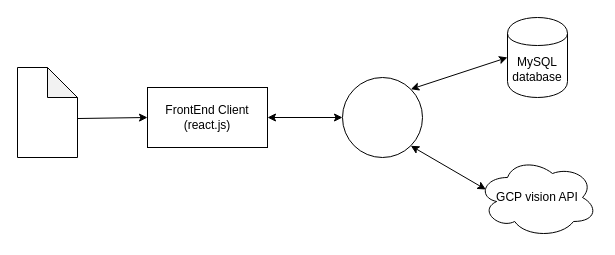
This 615x255 diagram has some shape labels left out. The centre of each missing label's shape, as x and y in pixels:
Server (node.js): point (382, 117)
user's images: point (47, 112)
